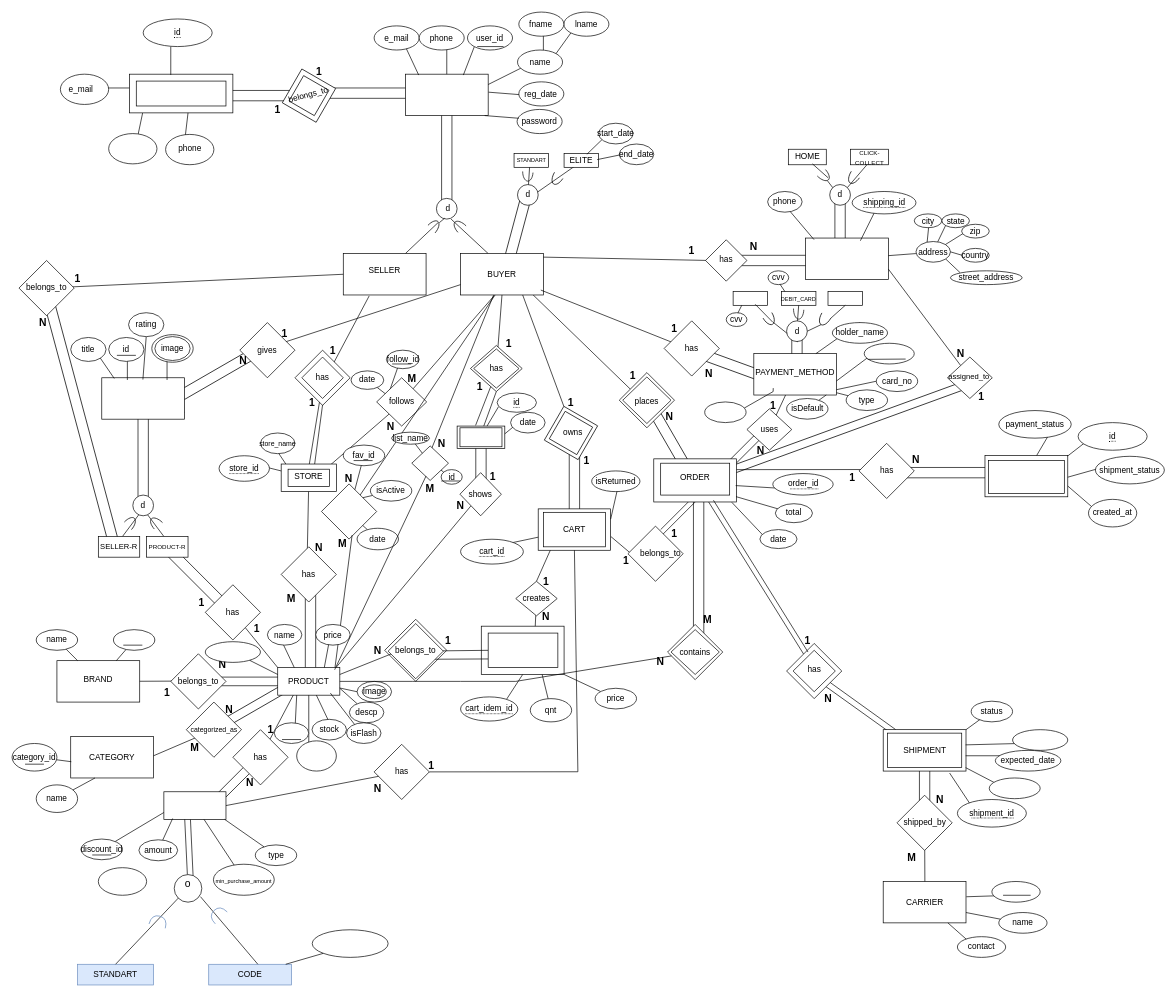
Some shapes in this 1176 by 997 pixel diagram are drawn without their labels. Here are the shapes that lost their labels. From the top down, the centre of each, then its label:
pixel 181 93: NOTIFICATION_PREFERENCE
pixel 446 94: USER
pixel 132 148: sms
pixel 846 258: SHIPPING_DETAILS
pixel 750 298: CREDIT_CARD
pixel 844 298: WALLET
pixel 889 353: payment_id
pixel 143 398: REVIEW
pixel 725 412: exp_date
pixel 480 437: HISTORY
pixel 429 462: lists
pixel 1026 476: ORDER_HISTORY
pixel 349 511: favorites
pixel 134 639: brand_id
pixel 232 651: review_count
pixel 522 650: CART_ITEM
pixel 291 732: prdct_id
pixel 1040 739: shipping_date
pixel 316 755: isBestSeller
pixel 194 805: DISCOUNT
pixel 1014 788: arrival_date
pixel 122 881: valid_from
pixel 1015 891: carrier_id
pixel 350 943: coupon_code
